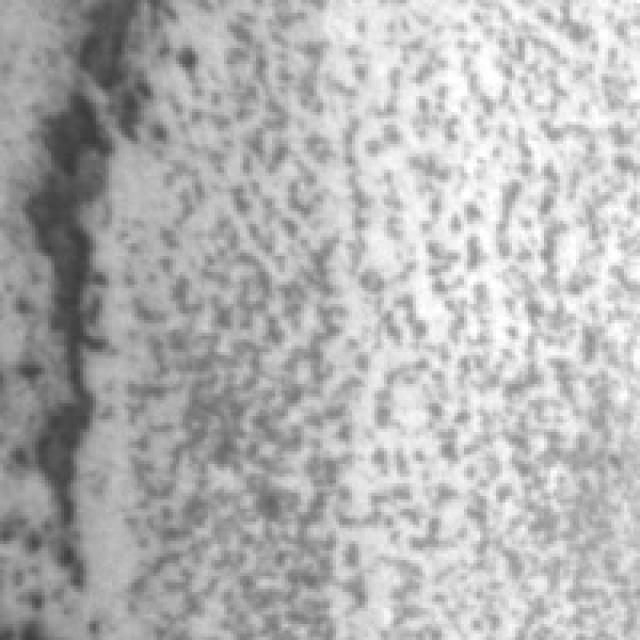patches: (19, 64, 147, 595)
pitted_surface: (135, 0, 640, 630)
